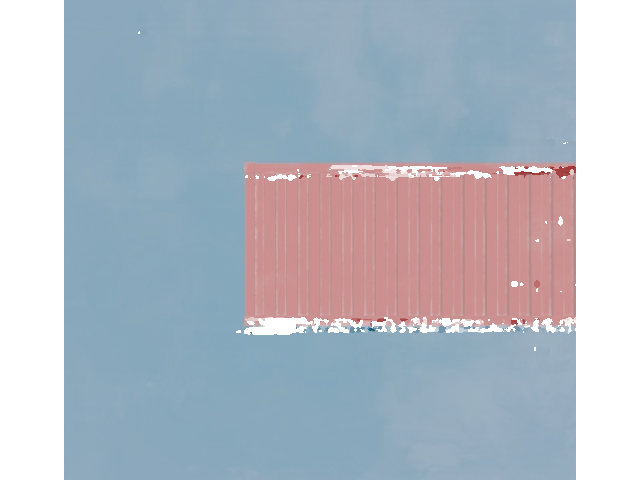container5: (239, 161, 640, 329)
